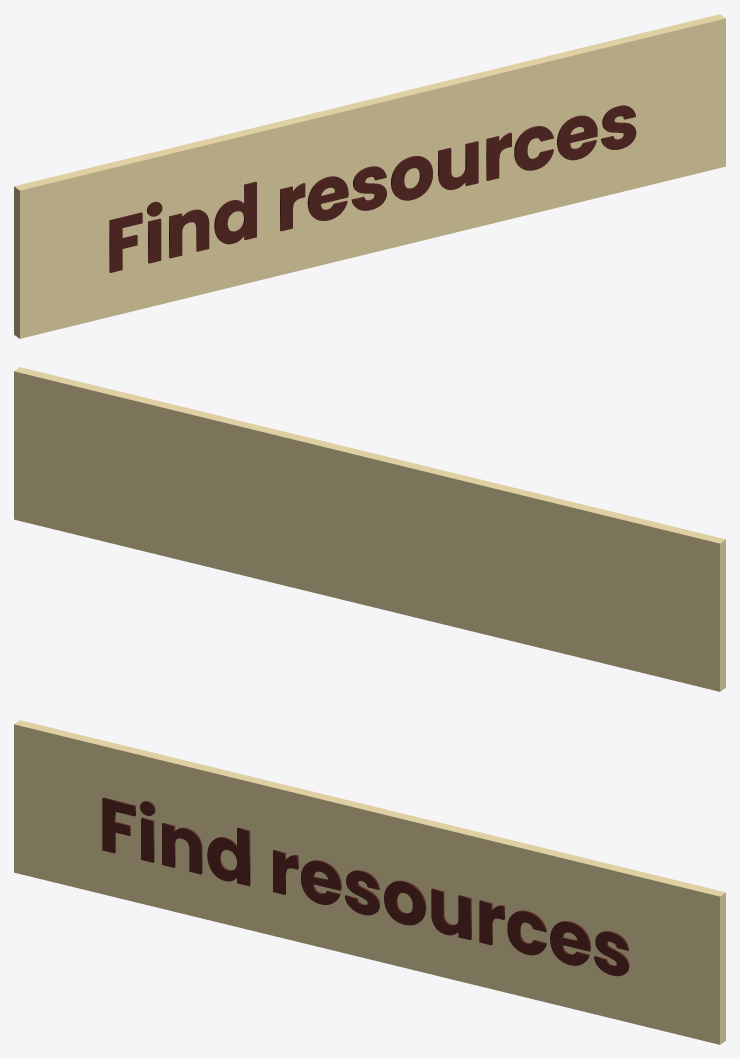
File: findButton.gltf
The picture shows the model from 3 angles, top to bottom: view 1: azimuth 30°, elevation 25°; view 2: azimuth 150°, elevation 25°; view 3: azimuth 330°, elevation 25°; orthographic projection.
Visible parts, largest first — view 1: findButton, Text.002; view 2: findButton; view 3: findButton, Text.002.
Boxes of the visible parts, left/top/right/bottom form: findButton: left=14, top=14, right=725, bottom=338; Text.002: left=109, top=105, right=636, bottom=272; findButton: left=14, top=367, right=725, bottom=691; findButton: left=14, top=720, right=725, bottom=1044; Text.002: left=102, top=797, right=629, bottom=976.
Size of the model in its own units: 8.72 by 1.75 by 0.1486.
